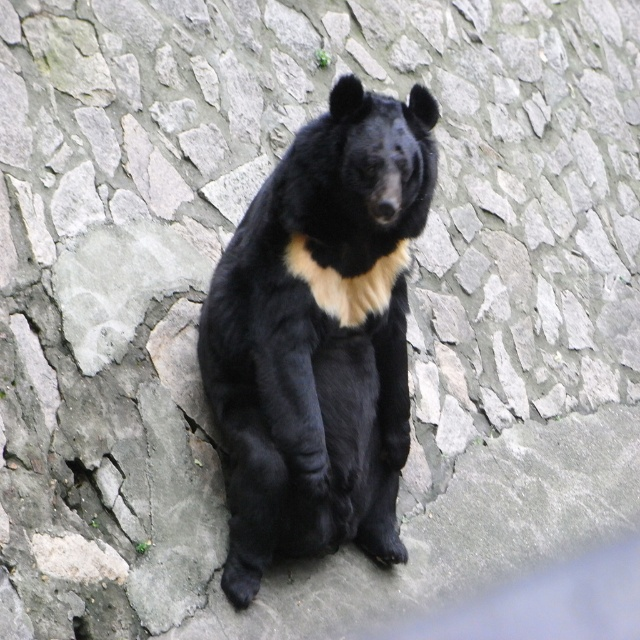Bear: (196, 74, 439, 613)
